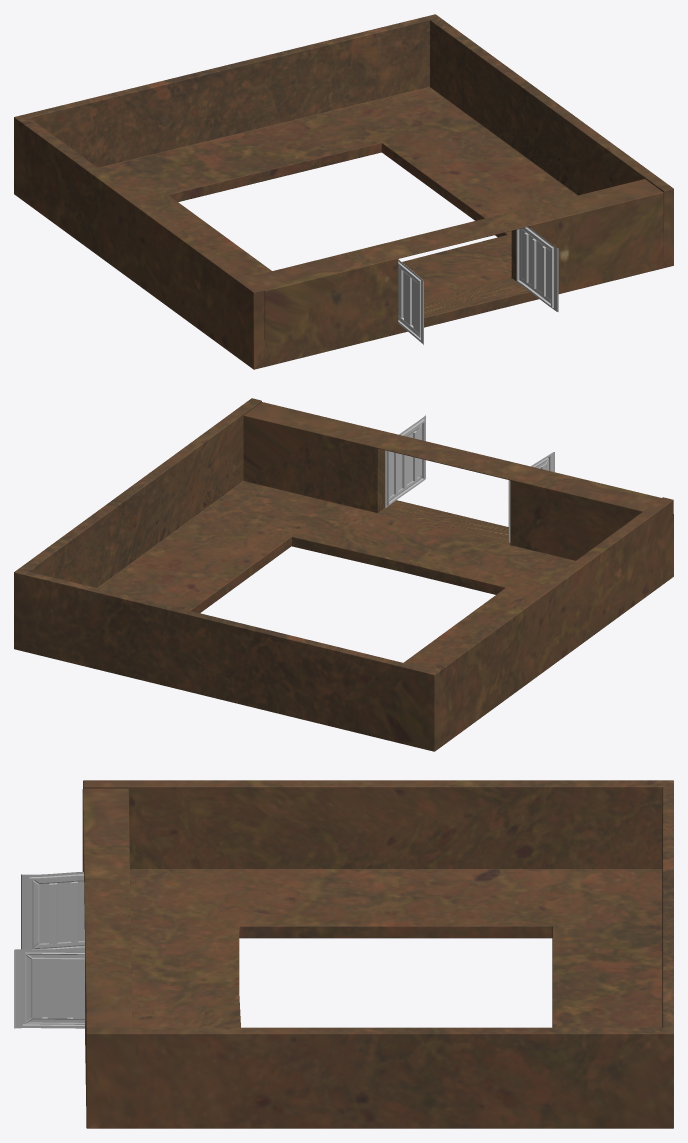
File: yehuza stage_Open.fbx
The picture shows the model from 3 angles, top to bottom: view 1: azimuth 30°, elevation 25°; view 2: azimuth 150°, elevation 25°; view 3: azimuth 270°, elevation 25°; orthographic projection. The views are drawn at different scales.
Visible parts, largest first — view 1: walls, door, door.001; view 2: walls, door; view 3: walls, door, door.001.
Part boxes in pixels (bbox=[...]): walls: bbox=[14, 14, 673, 369]; door: bbox=[516, 226, 558, 312]; door.001: bbox=[398, 259, 423, 345]; walls: bbox=[14, 398, 673, 751]; door: bbox=[385, 415, 425, 508]; walls: bbox=[82, 780, 673, 1128]; door: bbox=[14, 949, 84, 1028]; door.001: bbox=[21, 872, 84, 949].
Size of the model in its own units: 3943 by 692 by 4336.
